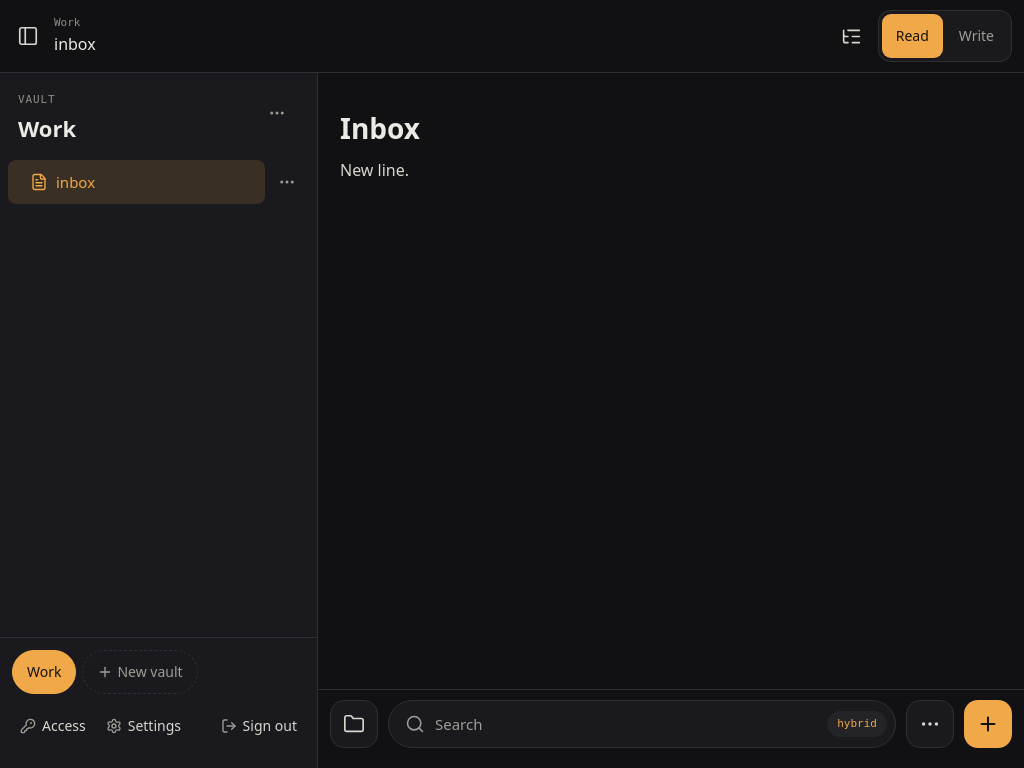
Test case: a note's history › says when a newer version arrived before the restore, and shows the list as it is now
This screenshot has width=1024, height=768.
Click the button named "Note actions" at (930, 724), box [906, 700, 954, 748]
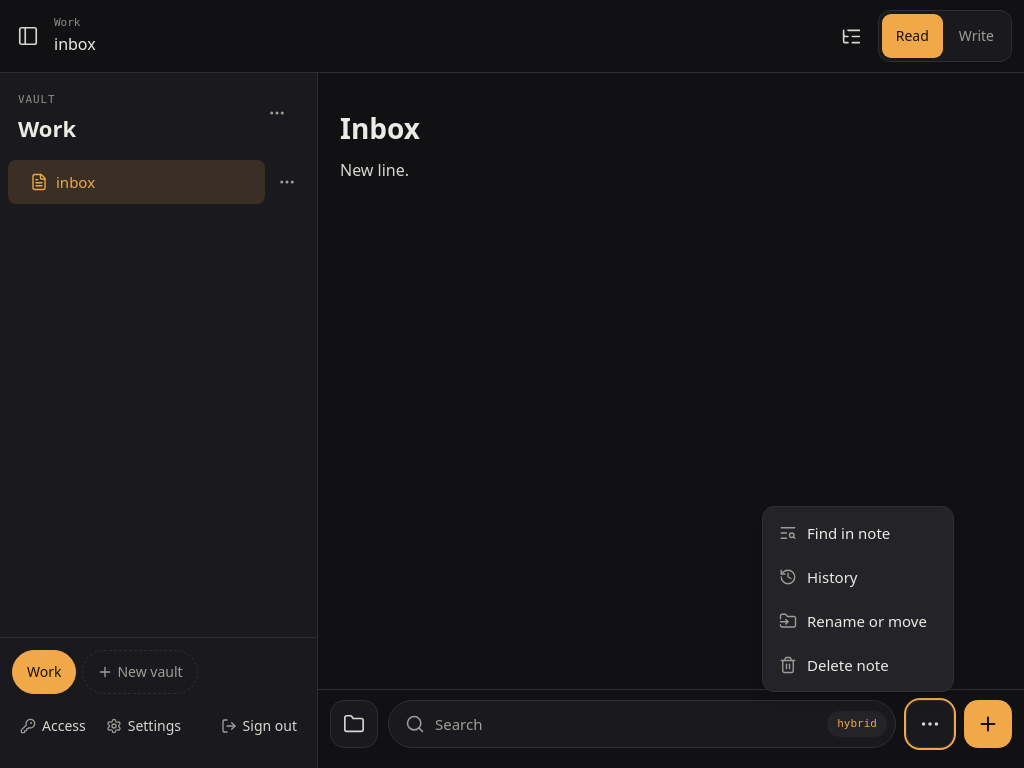
Click the menu item "History" at (858, 577), box [767, 555, 949, 599]
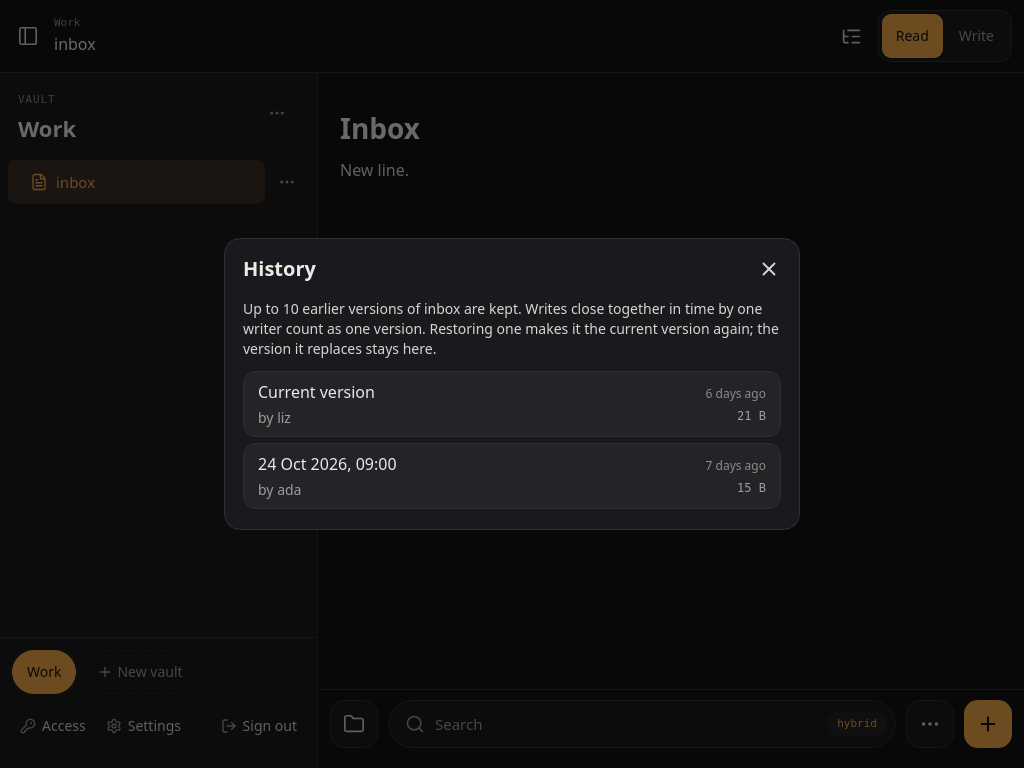
Click the button "24 Oct 2026, 09:00 7 days ago by ada 15 B" at (327, 464), box [243, 443, 781, 509]
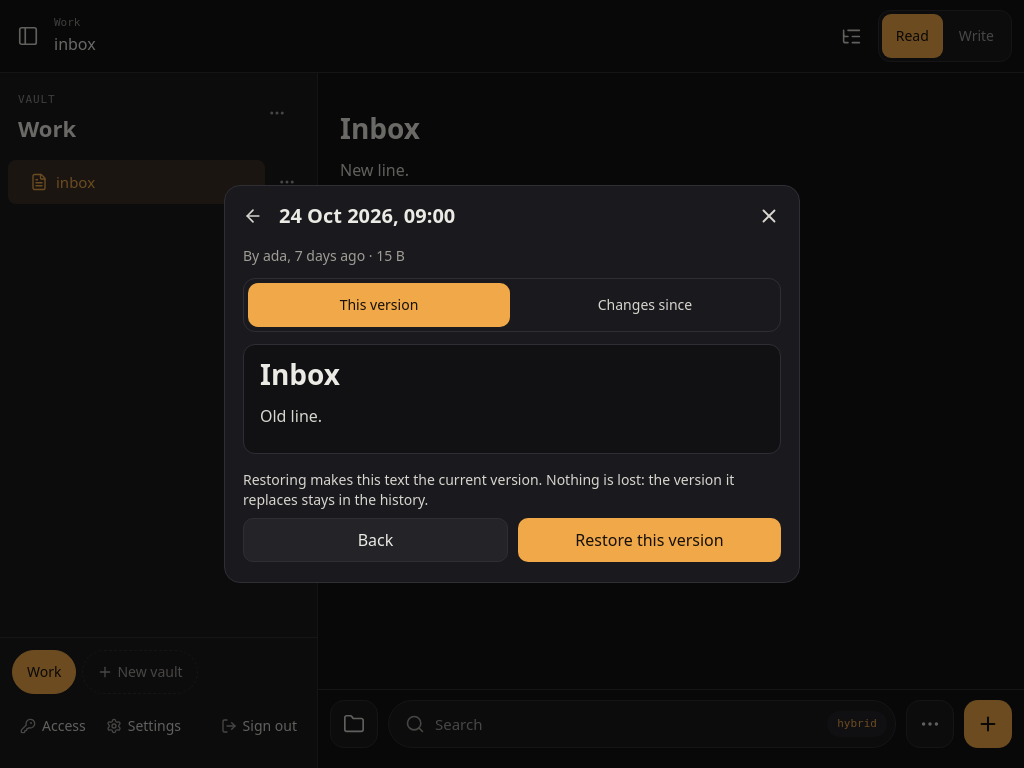
Click the button "Restore this version" at (650, 540), box [518, 518, 781, 562]
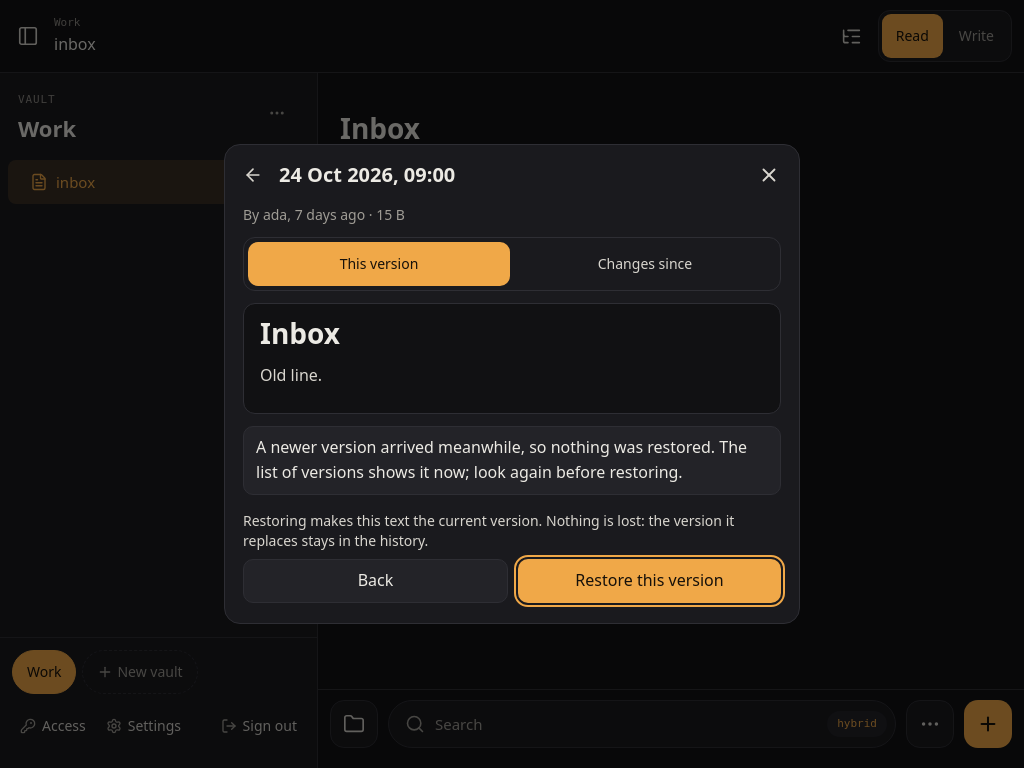
Result: the dialog is shown at [224, 144, 800, 624]
Result: the message shows "A newer version arrived meanwhile" at [256, 436, 747, 483]
